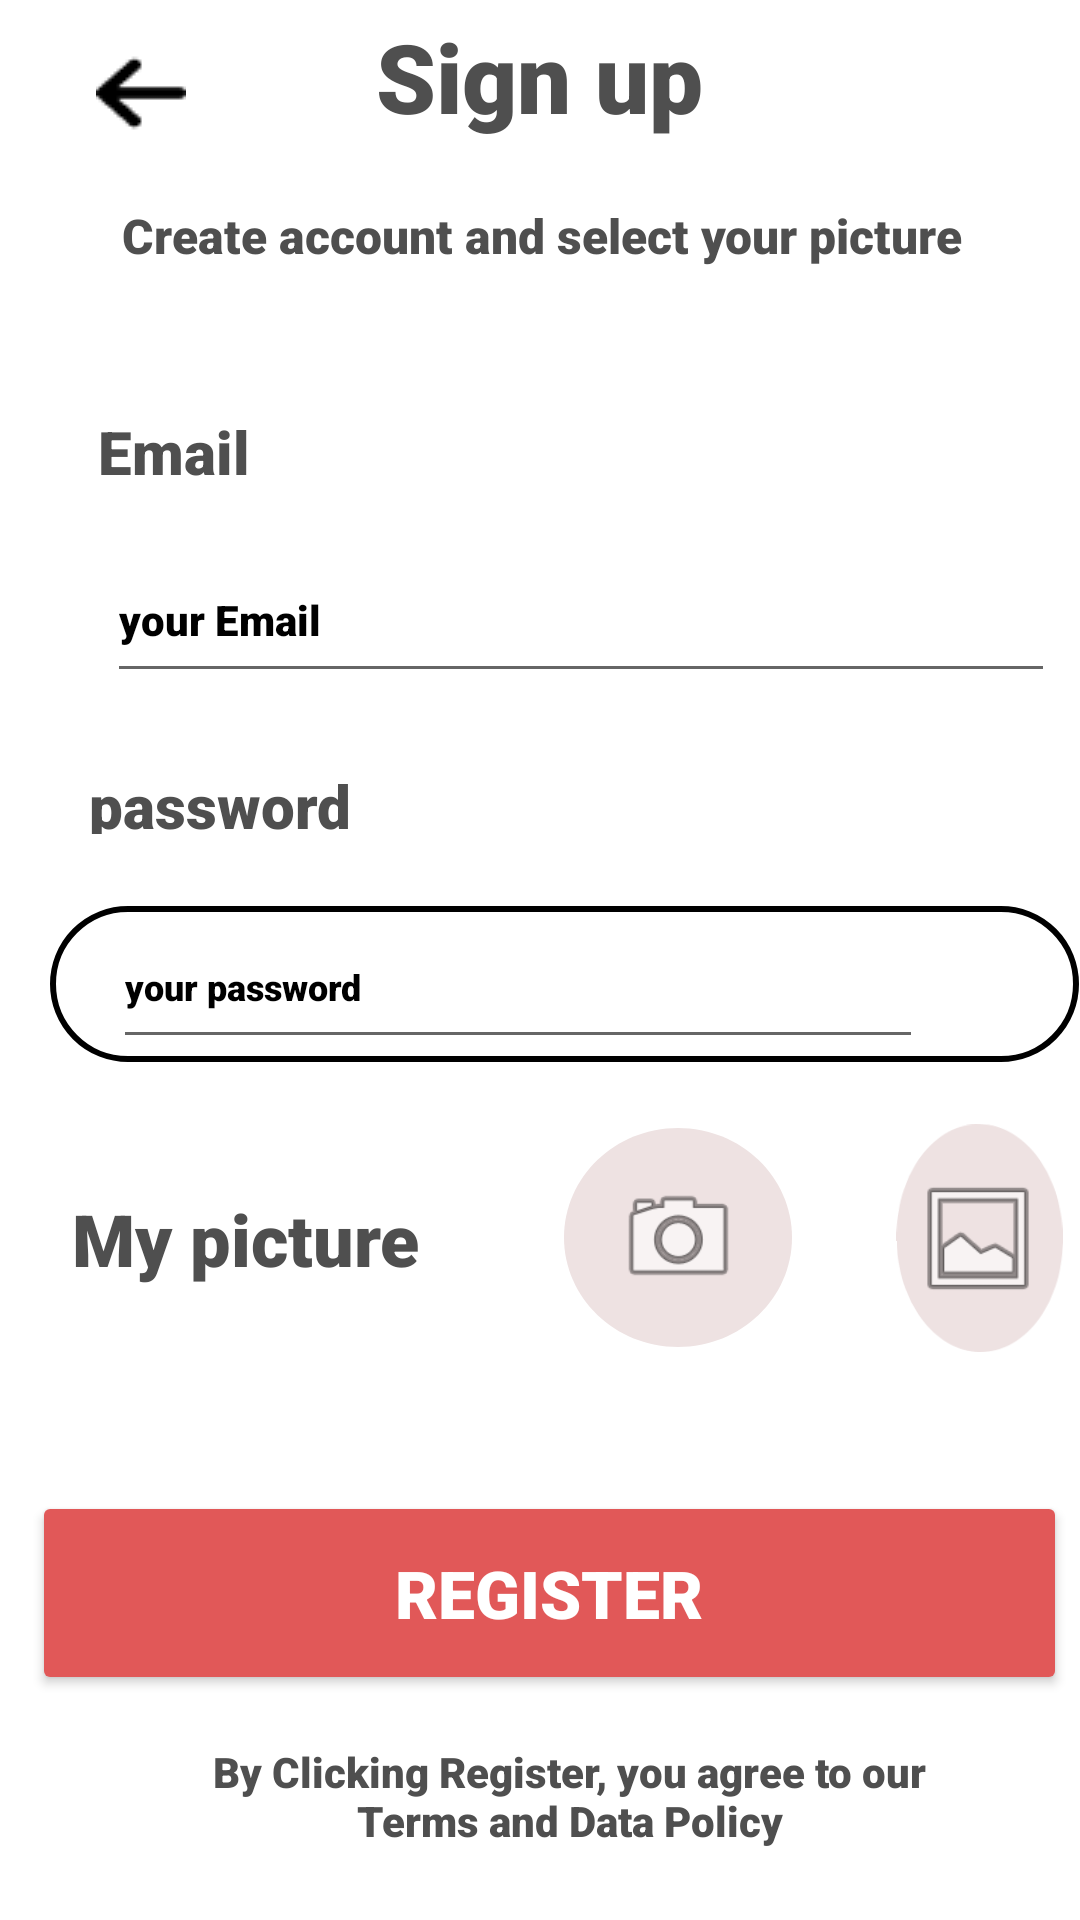

Where to tap for icons on this 1080 x 1920 app screen, as [x,y]:
arrow left: [141,93]
camera: [678,1235]
gallery: [978,1238]
